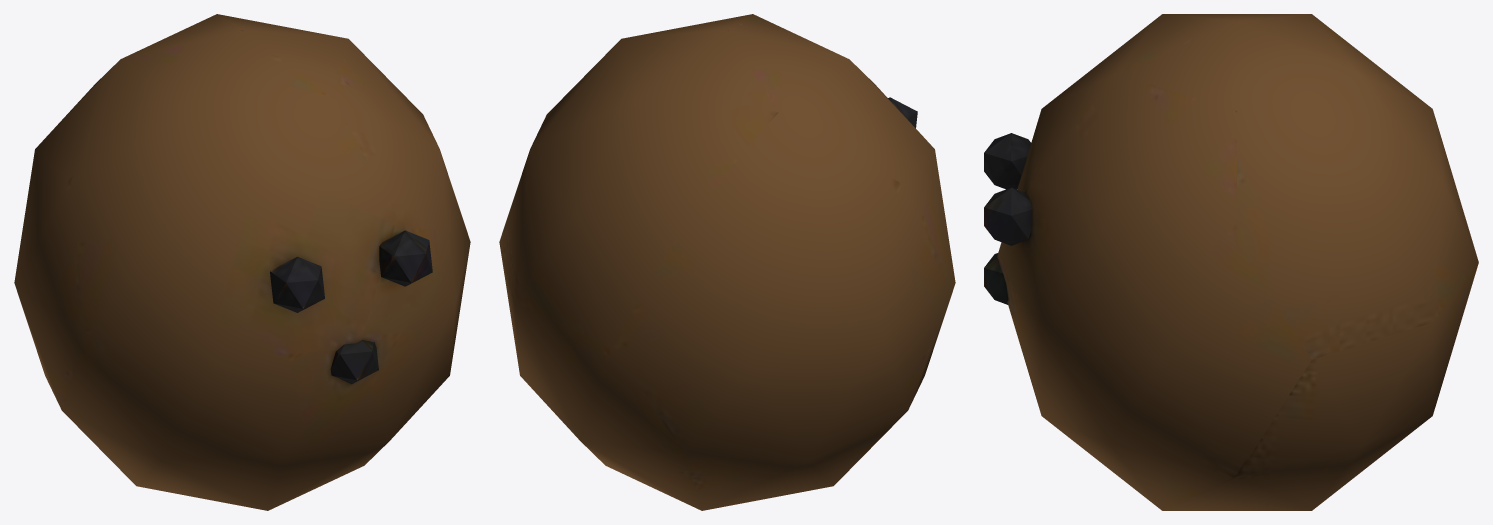
The model's file is coco.glb.
The picture shows the model from 3 angles, left to right: view 1: azimuth 30°, elevation 25°; view 2: azimuth 150°, elevation 25°; view 3: azimuth 270°, elevation 25°; orthographic projection. The views are drawn at different scales.
Visible parts, largest first — view 1: coco; view 2: coco; view 3: coco.
Boxes of the visible parts, bbox=[...] form: coco: bbox=[14, 14, 470, 510]; coco: bbox=[499, 14, 955, 510]; coco: bbox=[984, 14, 1478, 510].
Size of the model in its own units: 0.5706 by 0.66 by 0.614.
1 material, 1 textured.
